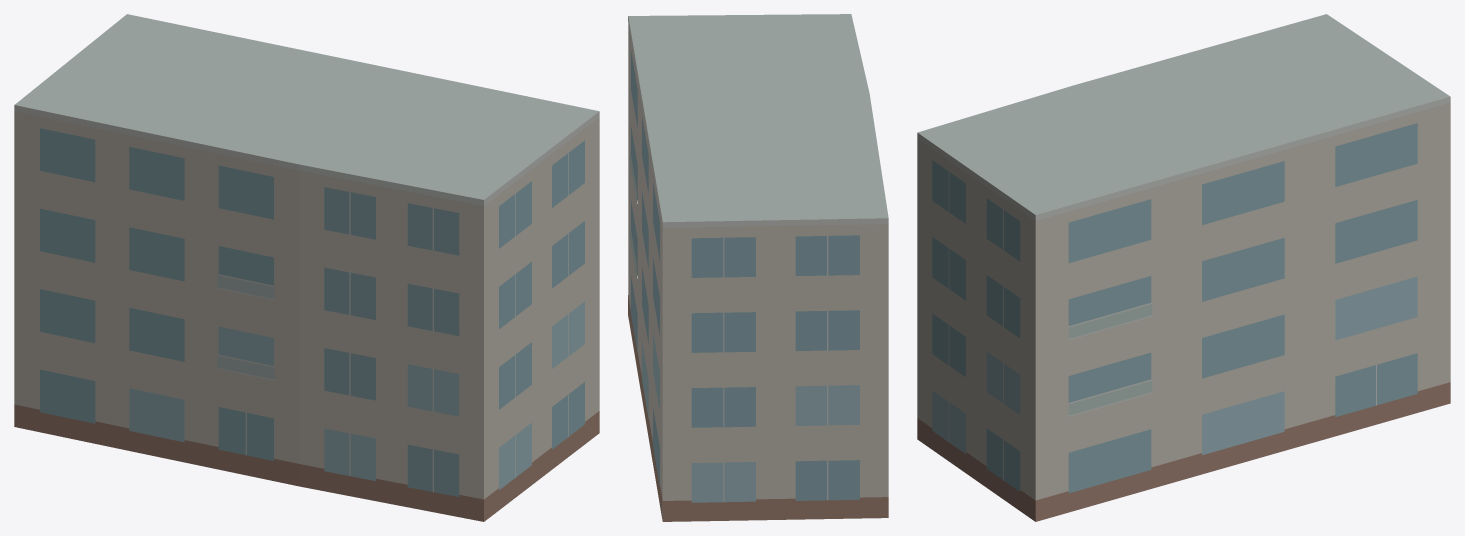
Rendered from survey-upis-33013484.glb.
3 views of the same model, side by side, from view 1: azimuth 30°, elevation 25°; view 2: azimuth 150°, elevation 25°; view 3: azimuth 270°, elevation 25° (orthographic). The views are drawn at different scales.
Visible parts, largest first — view 1: survey-upis-33013484.tmp; view 2: survey-upis-33013484.tmp; view 3: survey-upis-33013484.tmp.
Part boxes in pixels (x1,y1,x2,y2): survey-upis-33013484.tmp: (14, 14, 599, 521); survey-upis-33013484.tmp: (628, 14, 888, 521); survey-upis-33013484.tmp: (917, 14, 1450, 521).
Bounding box in the file's own units: 18 × 12.8 × 20.17.
